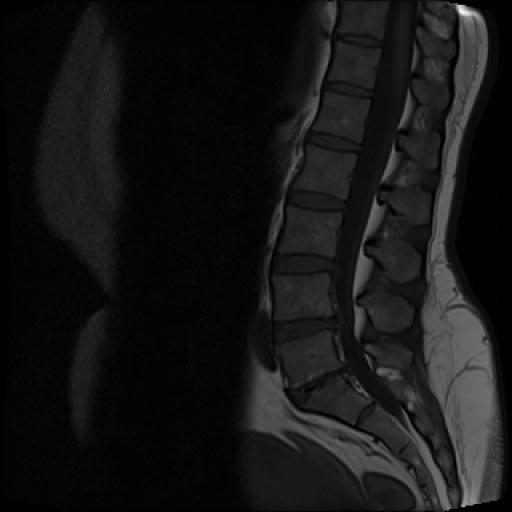L1: (312, 89, 371, 143)
L2: (292, 144, 357, 200)
L3: (277, 206, 342, 258)
L4: (273, 272, 334, 321)
L5: (275, 330, 344, 386)
S1: (302, 372, 371, 426)
